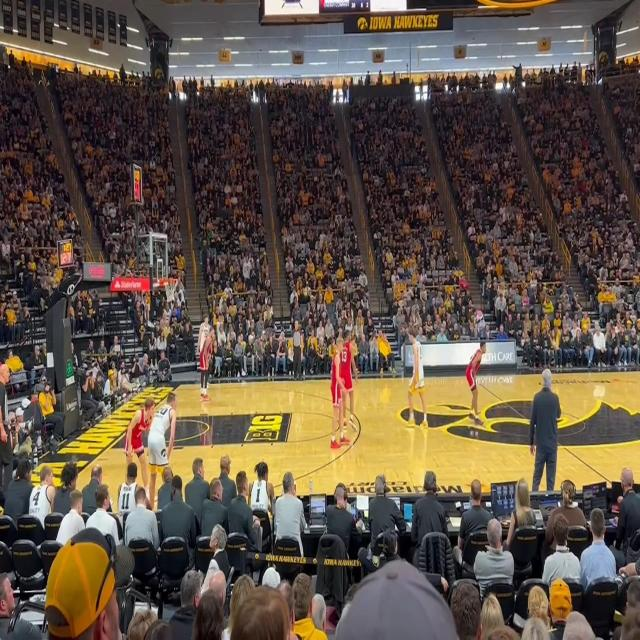Hoop: (162, 278, 178, 302)
Player: (124, 396, 157, 502), (150, 392, 178, 511), (405, 327, 429, 429), (330, 339, 351, 448), (341, 329, 358, 432), (466, 340, 486, 426), (199, 326, 215, 401), (198, 314, 210, 391)
Ref: (0, 362, 14, 496), (291, 320, 303, 381)
